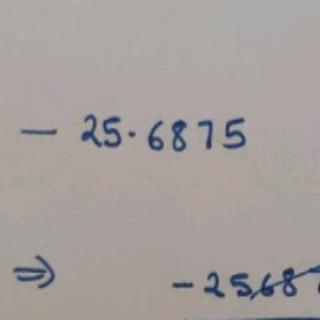.: (122, 126, 141, 142)
2: (80, 112, 102, 152), (204, 270, 225, 301)
5: (223, 117, 247, 150), (101, 114, 122, 148), (229, 271, 252, 298)
6: (147, 118, 167, 152), (261, 272, 275, 297)
7: (194, 118, 213, 151)
8: (168, 118, 189, 154), (278, 268, 300, 298)
